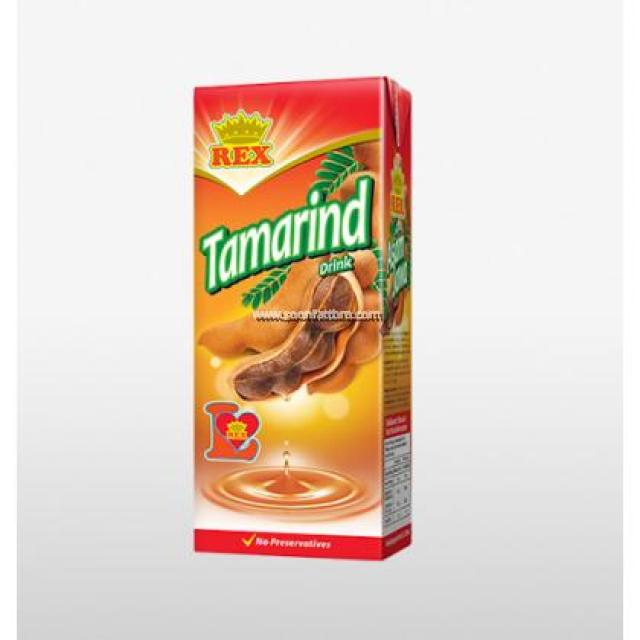drink carton: (189, 76, 417, 563)
